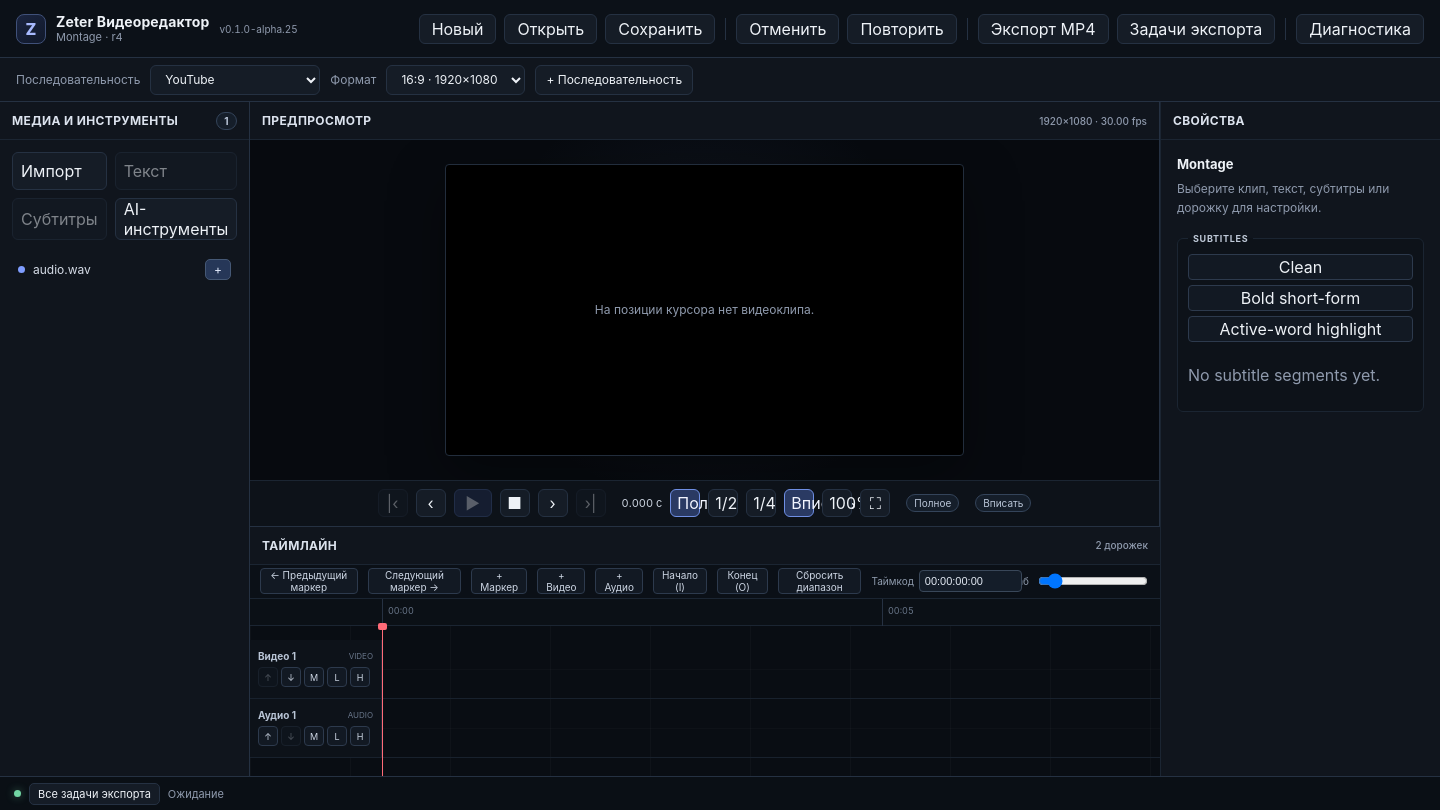
Test: multi-sequence editor › exports the chosen sequence and aborts if the user switches during Save As
Step 1. Select "Short 01" in the dropdown labelled "Последовательность" → x=235, y=80, box [150,64,320,94]
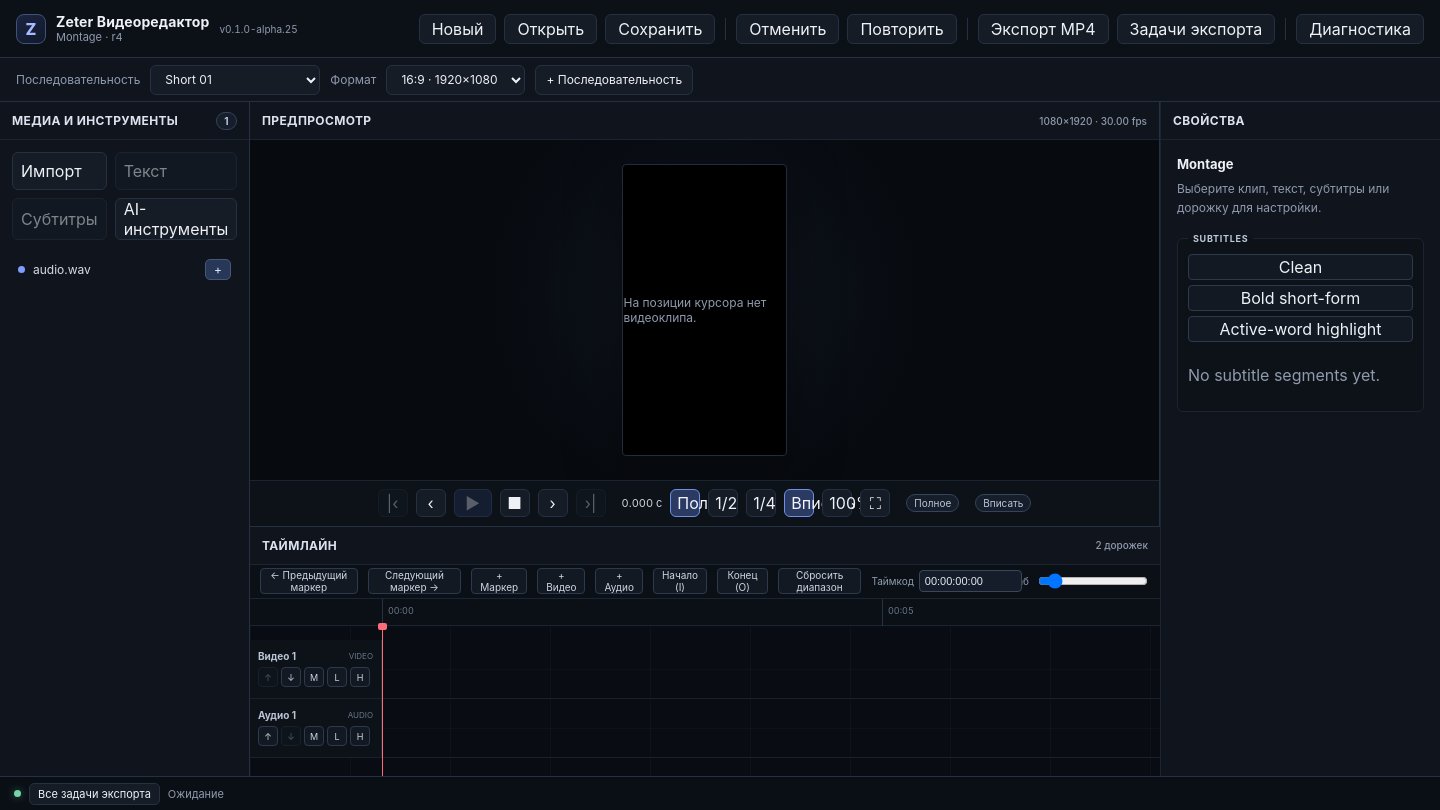
Step 2. Click the button "Экспорт MP4" → x=1043, y=28, box [978,14,1108,44]
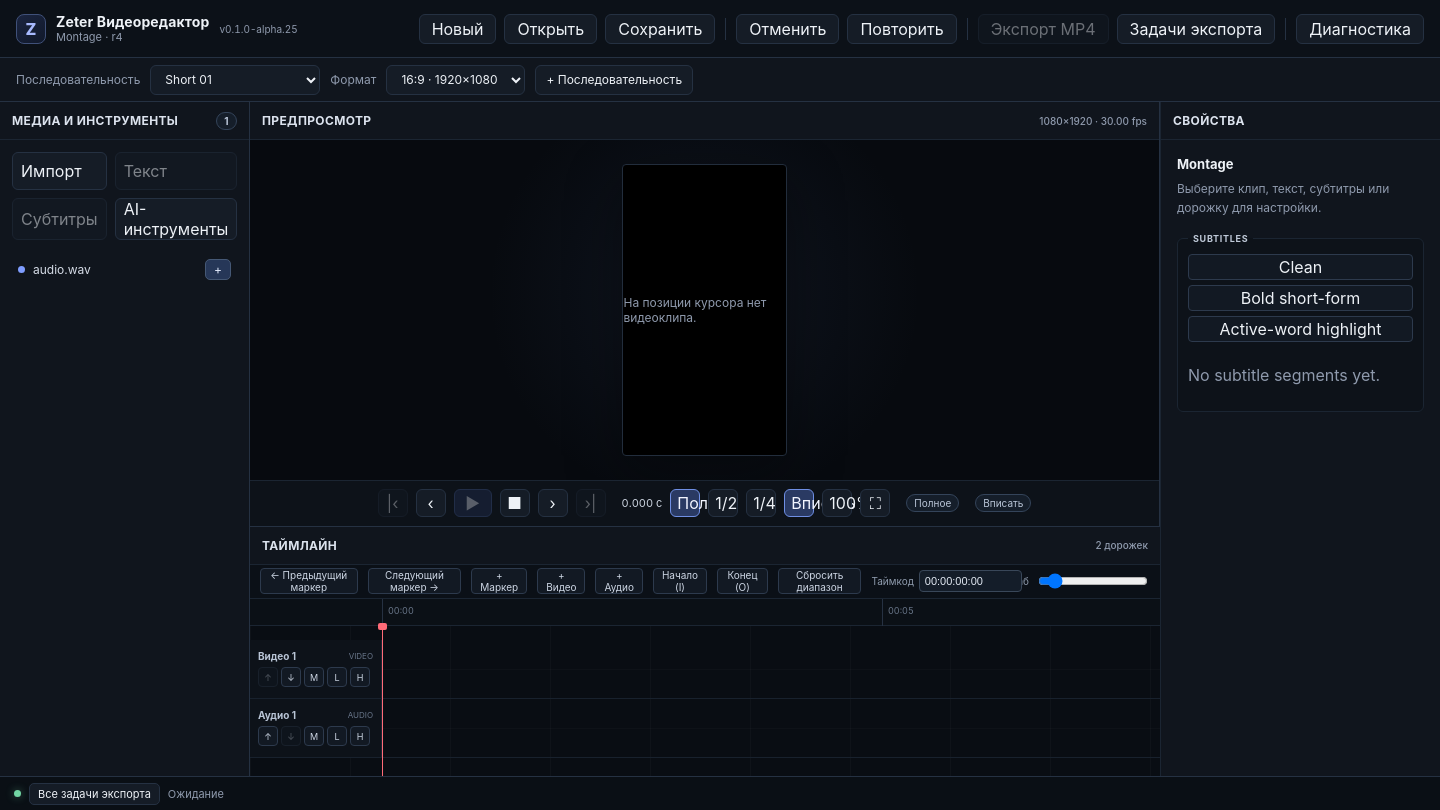
Step 3. Select "YouTube" in the dropdown labelled "Последовательность" → x=235, y=80, box [150,64,320,94]
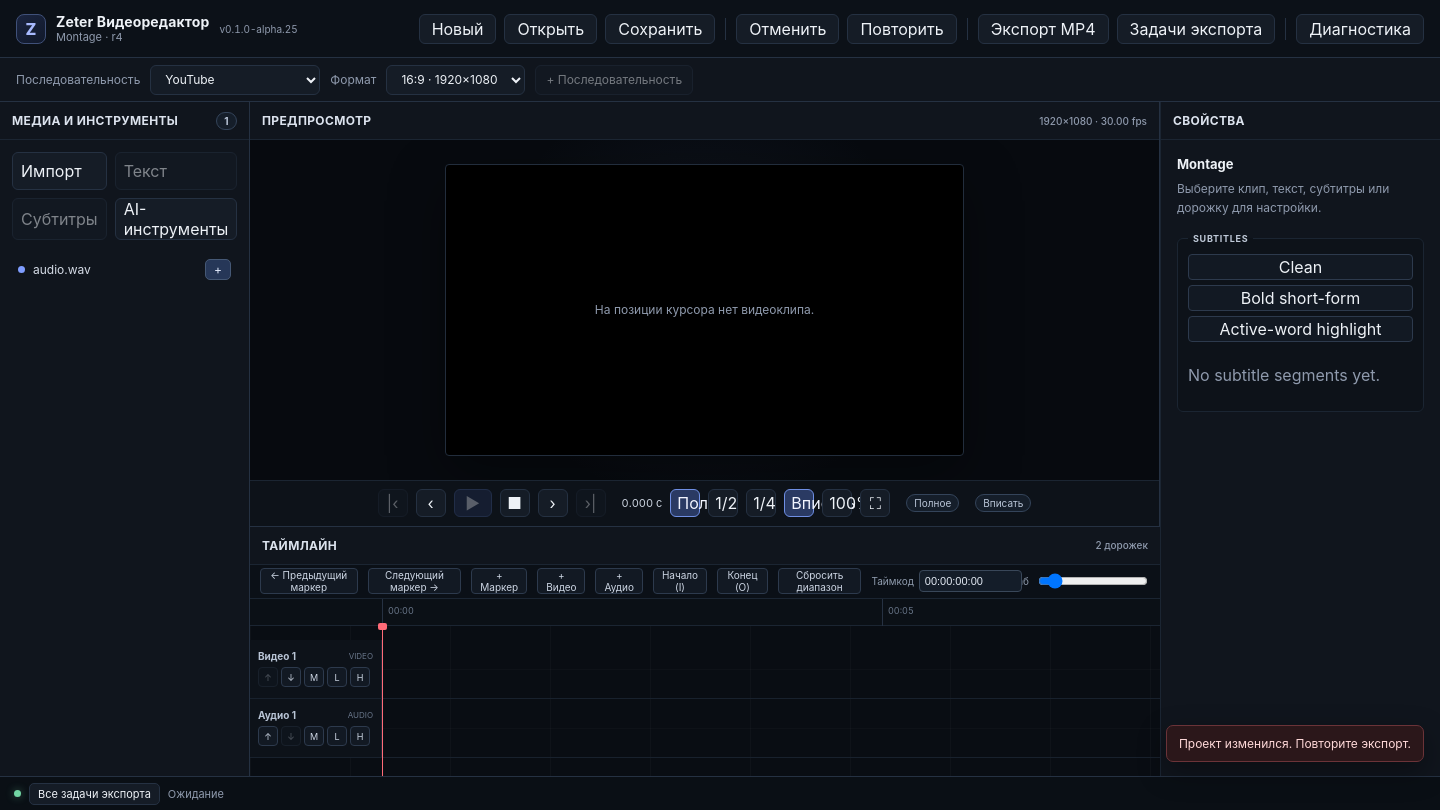
Check: the text "изменился" is shown, box [1179,736,1411,751]
